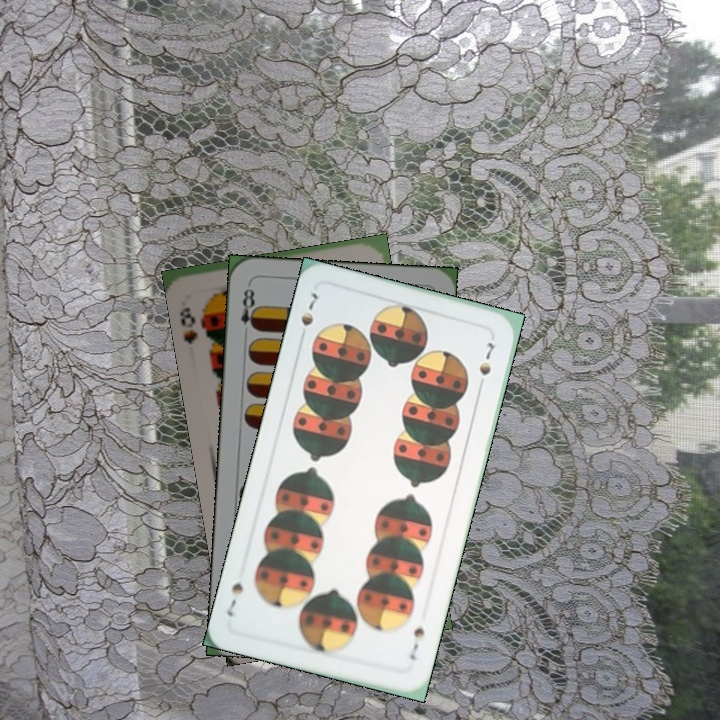E8: (236, 281, 260, 340)
S7: (296, 287, 321, 344), (405, 623, 427, 663)
S8: (175, 303, 200, 347)
